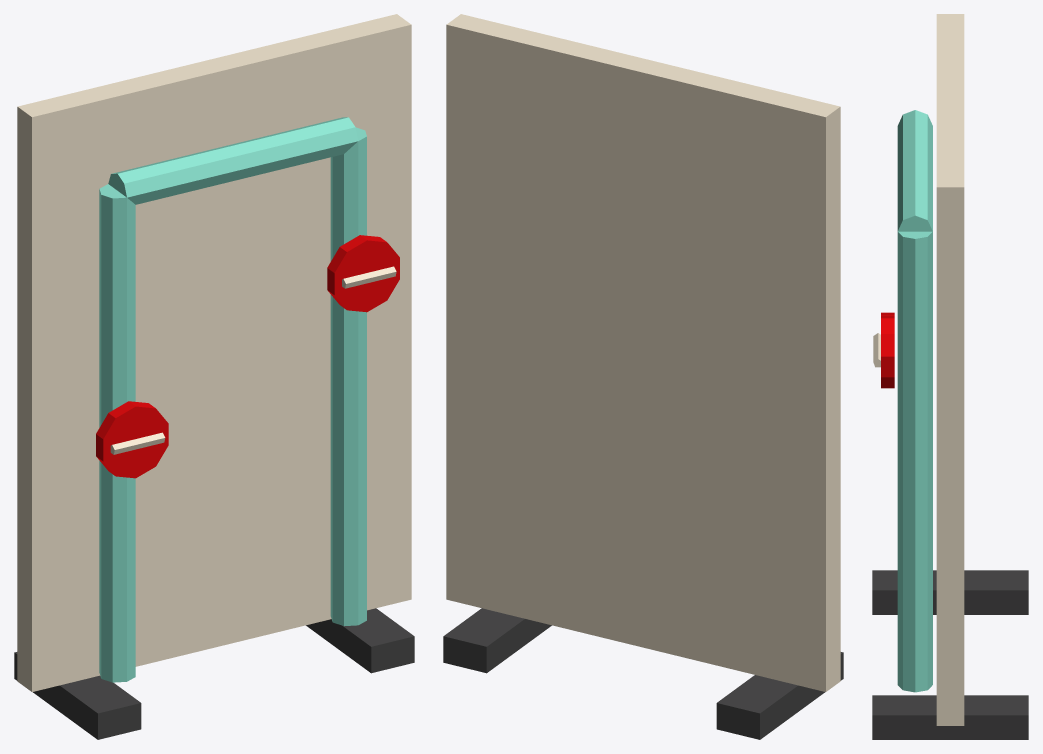
The picture shows the model from 3 angles, left to right: view 1: azimuth 30°, elevation 25°; view 2: azimuth 150°, elevation 25°; view 3: azimuth 270°, elevation 25°; orthographic projection. The views are drawn at different scales.
Parts seen in each view (by area): view 1: Panel, Upright pipe, Upright pipe.001, Pipe connector, Panel foot, Valve face.001, Panel foot.001, Valve face; view 2: Panel, Panel foot, Panel foot.001; view 3: Panel, Upright pipe.001, Panel foot.001, Panel foot, Pipe connector, Valve face.001.
Part boxes in pixels (box(x1,y1,x2,y2)): Panel: box(17, 14, 411, 691); Upright pipe: box(99, 184, 135, 682); Upright pipe.001: box(330, 127, 366, 626); Pipe connector: box(108, 117, 358, 204); Panel foot: box(14, 652, 141, 739); Valve face.001: box(327, 235, 399, 312); Panel foot.001: box(306, 608, 414, 673); Valve face: box(96, 401, 168, 478); Panel: box(446, 14, 840, 691); Panel foot: box(716, 652, 843, 739); Panel foot.001: box(443, 608, 551, 673); Panel: box(936, 14, 964, 725); Upright pipe.001: box(897, 231, 932, 692); Panel foot.001: box(872, 695, 1028, 739); Panel foot: box(872, 570, 1028, 614); Pipe connector: box(897, 110, 932, 231); Valve face.001: box(881, 315, 894, 388).
Bounding box in the file's own units: 105 × 160 × 40.
